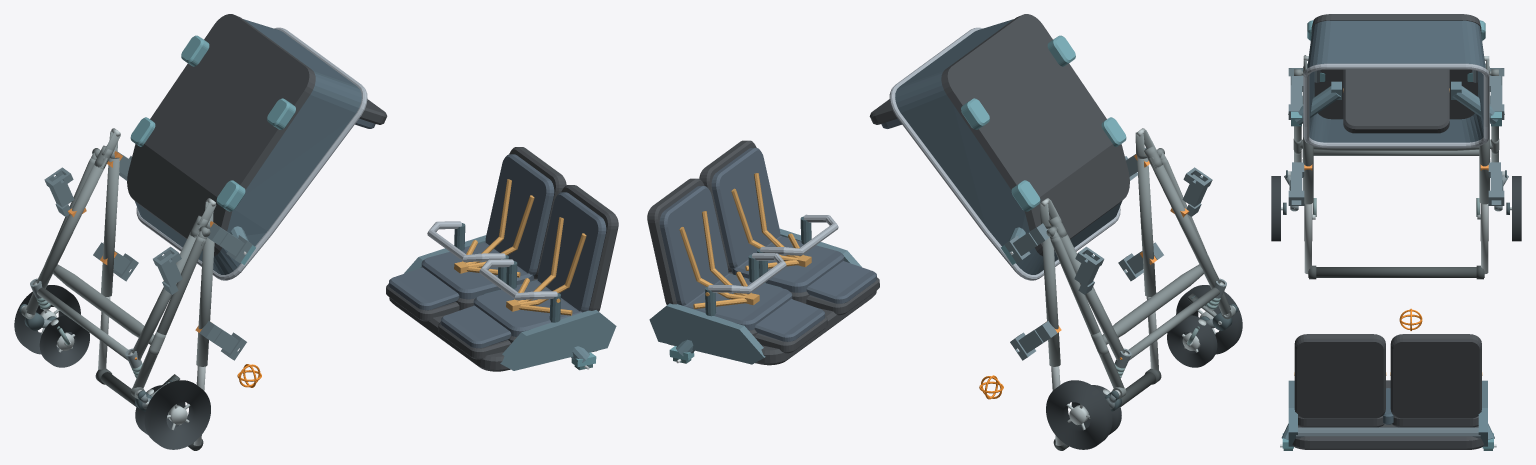
File: D29_w650_state3_wheel_S.glb
3 renders of one model, left to right at view 1: azimuth 30°, elevation 25°; view 2: azimuth 150°, elevation 25°; view 3: azimuth 270°, elevation 25°, orthographic. The views are drawn at different scales.
Parts seen in each view (by area): view 1: D29_Lower, D29_Upper, RL_tire.011, FR_tire.011, main_upper_1.012, main_lower_1.012, V46_rearbar.011, V46_rear_leg_-1.011, main_upper_-1.012, RR_tire.011, main_lower_-1.012, front_fixed_round_tube.011 (+5 smaller); view 2: D29_Lower, D29_Upper, RR_tire.011, FL_tire.011, main_upper_-1.012, V46_rearbar.011, main_lower_-1.012, V46_rear_leg_1.011, main_upper_1.012, RL_tire.011, main_lower_1.012, front_fixed_round_tube.011 (+5 smaller); view 3: D29_Lower, D29_Upper, round_handle.013, D29_Lower_Mount_M, front_fixed_round_tube.011, RL_tire.011, RR_tire.011, main_upper_1.012, main_upper_-1.012, Universal_Cabin_Receiver_H_1, Universal_Cabin_Receiver_H_-1, handle_slider_1.013 (+6 smaller).
Part boxes in pixels (left/top/right/bottom): D29_Lower: left=127, top=14, right=387, bottom=280; D29_Upper: left=386, top=147, right=618, bottom=371; RL_tire.011: left=144, top=380, right=210, bottom=449; FR_tire.011: left=39, top=315, right=89, bottom=367; main_upper_1.012: left=101, top=158, right=119, bottom=296; main_lower_1.012: left=36, top=158, right=107, bottom=288; V46_rearbar.011: left=53, top=264, right=154, bottom=344; V46_rear_leg_-1.011: left=133, top=236, right=206, bottom=388; main_upper_-1.012: left=196, top=228, right=214, bottom=366; RR_tire.011: left=14, top=285, right=80, bottom=354; main_lower_-1.012: left=132, top=233, right=198, bottom=360; front_fixed_round_tube.011: left=37, top=287, right=128, bottom=360; D29_Lower: left=869, top=14, right=1129, bottom=280; D29_Upper: left=647, top=140, right=879, bottom=365; RR_tire.011: left=1046, top=380, right=1112, bottom=449; FL_tire.011: left=1167, top=315, right=1217, bottom=367; main_upper_-1.012: left=1137, top=158, right=1156, bottom=296; V46_rearbar.011: left=1102, top=264, right=1203, bottom=344; main_lower_-1.012: left=1149, top=158, right=1220, bottom=288; V46_rear_leg_1.011: left=1050, top=236, right=1124, bottom=388; main_upper_1.012: left=1042, top=228, right=1060, bottom=366; RL_tire.011: left=1176, top=285, right=1242, bottom=354; main_lower_1.012: left=1058, top=234, right=1124, bottom=360; front_fixed_round_tube.011: left=1128, top=287, right=1219, bottom=360; D29_Lower: left=1303, top=14, right=1489, bottom=148; D29_Upper: left=1288, top=334, right=1487, bottom=449; round_handle.013: left=1308, top=267, right=1484, bottom=277; D29_Lower_Mount_M: left=1288, top=81, right=1504, bottom=126; front_fixed_round_tube.011: left=1313, top=149, right=1479, bottom=155; RL_tire.011: left=1271, top=176, right=1280, bottom=241; RR_tire.011: left=1512, top=176, right=1521, bottom=241; main_upper_1.012: left=1479, top=92, right=1489, bottom=204; main_upper_-1.012: left=1303, top=92, right=1313, bottom=204; Universal_Cabin_Receiver_H_1: left=1488, top=162, right=1504, bottom=205; Universal_Cabin_Receiver_H_-1: left=1288, top=162, right=1304, bottom=205; handle_slider_1.013: left=1481, top=204, right=1488, bottom=273.
Bounding box in the file's own units: 1.59 × 1.09 × 0.766.
